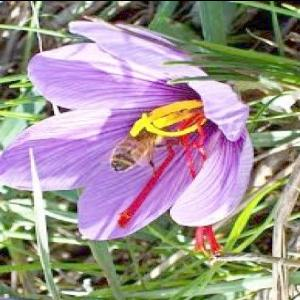Saffron: (2, 21, 255, 238)
